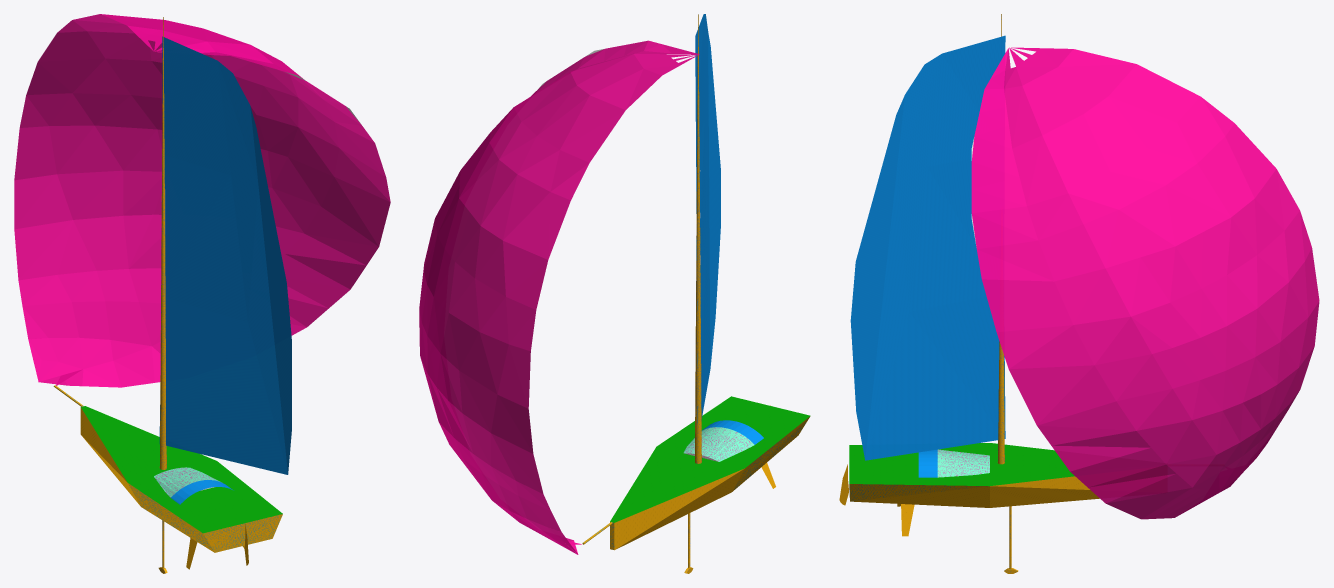
Rendered from genak_babord_monocoque.dae.
3 views of the same model, side by side, from view 1: azimuth 30°, elevation 25°; view 2: azimuth 150°, elevation 25°; view 3: azimuth 270°, elevation 25° (orthographic).
Visible parts, largest first — view 1: SketchUp (×8); view 2: SketchUp (×8); view 3: SketchUp (×7).
Boxes of the visible parts, left/top/right/bottom form: SketchUp (×8): left=14, top=14, right=390, bottom=552; SketchUp (×8): left=419, top=14, right=810, bottom=554; SketchUp (×7): left=849, top=14, right=1319, bottom=519.
Bounding box in the file's own units: 70308 × 106858 × 136820.
